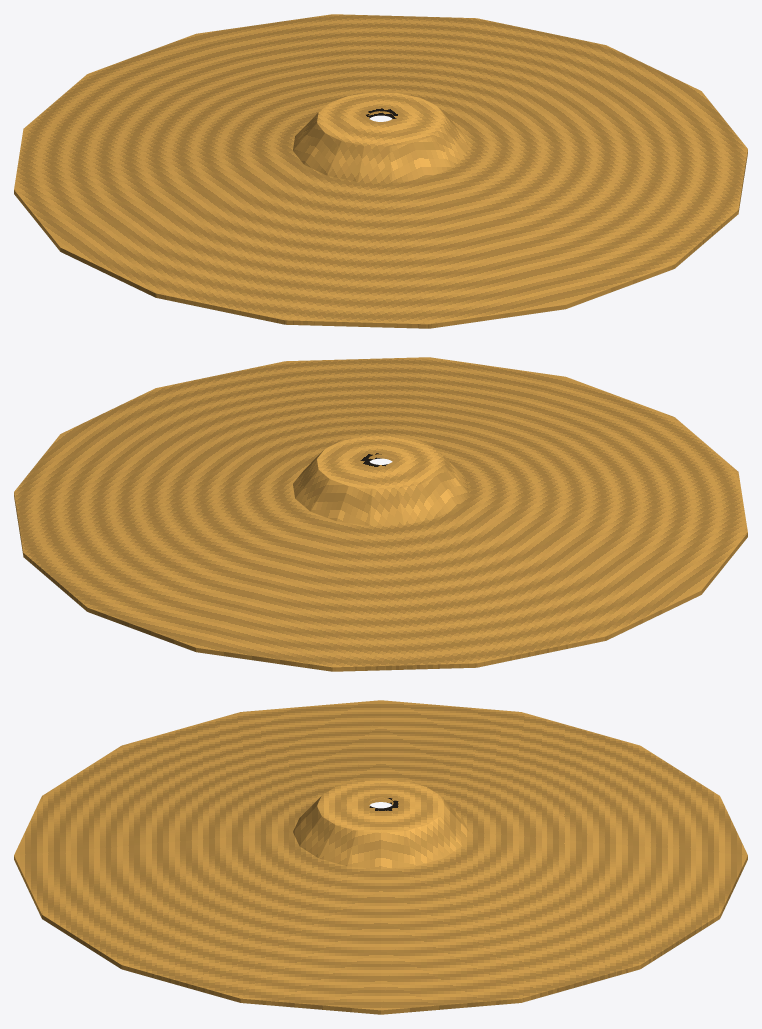
The model's file is cymbal.glb.
The picture shows the model from 3 angles, top to bottom: view 1: azimuth 30°, elevation 25°; view 2: azimuth 150°, elevation 25°; view 3: azimuth 270°, elevation 25°; orthographic projection.
Visible parts, largest first — view 1: cymbal; view 2: cymbal; view 3: cymbal.
Boxes of the visible parts, left/top/right/bottom form: cymbal: left=14, top=14, right=747, bottom=328; cymbal: left=14, top=357, right=747, bottom=671; cymbal: left=14, top=700, right=747, bottom=1014.
Bounding box in the file's own units: 0.458 × 0.039 × 0.458.
1 material, 1 textured.
